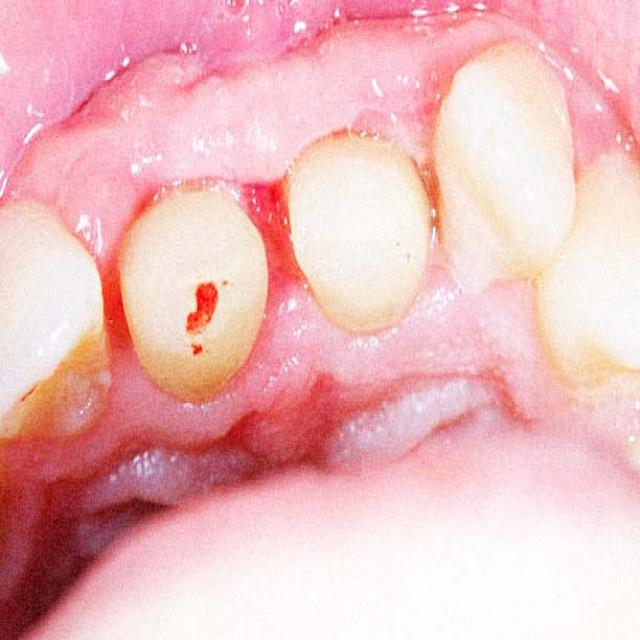caries: (170, 259, 233, 367)
